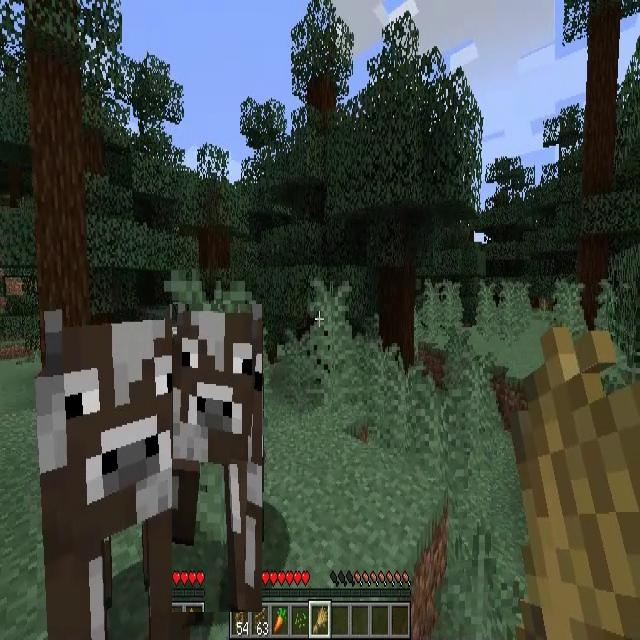cow: (43, 317, 190, 640), (172, 304, 262, 612)
